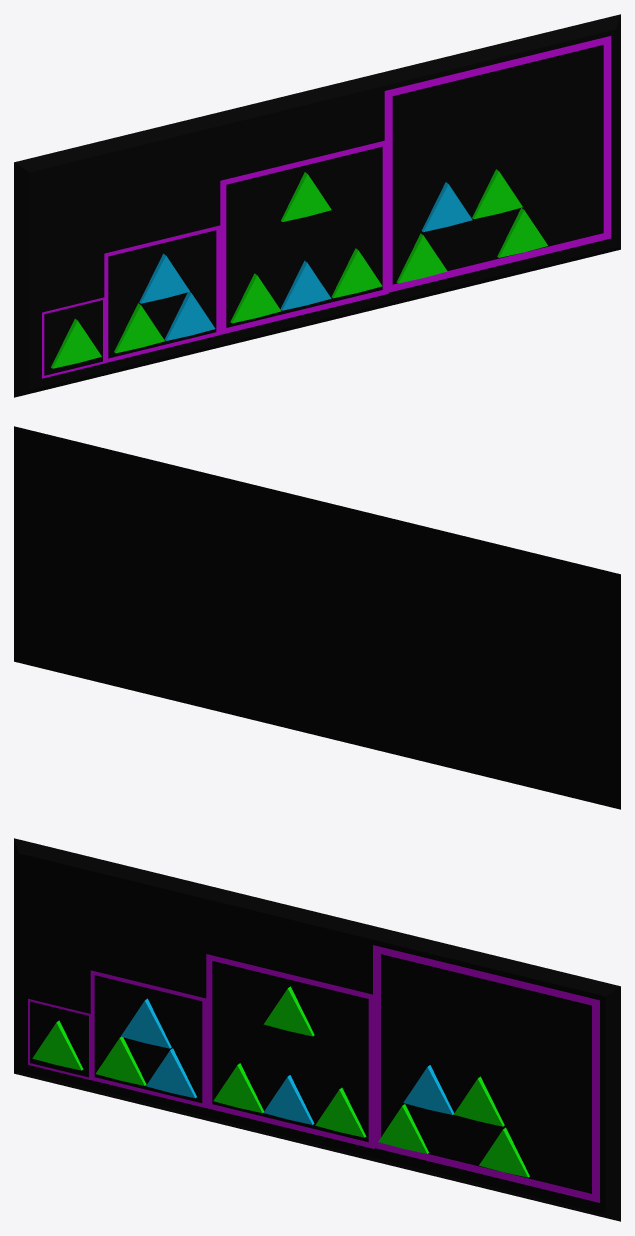
Rendered from New Pattern  Shape Puzzle Stage 2 1.1.fbx.
3 views of the same model, one above another, from view 1: azimuth 30°, elevation 25°; view 2: azimuth 150°, elevation 25°; view 3: azimuth 330°, elevation 25° (orthographic).
Visible parts, largest first — view 1: Cube.003, Plane.003, Plane.002, Plane.001, Cube.013, Cube.015, Plane; view 2: Cube.003; view 3: Cube.003, Plane.003, Plane.002, Plane.001, Cube.013, Cube.015, Plane.
Part boxes in pixels (x1,y1,x2,y2): Cube.003: (14, 14, 620, 397); Plane.003: (384, 36, 611, 292); Plane.002: (220, 140, 388, 334); Plane.001: (104, 225, 220, 362); Cube.013: (396, 233, 447, 283); Cube.015: (421, 182, 472, 231); Plane: (42, 297, 105, 378); Cube.003: (14, 426, 620, 809); Cube.003: (14, 838, 620, 1221); Plane.003: (373, 945, 599, 1202); Plane.002: (206, 954, 374, 1148); Plane.001: (90, 970, 206, 1108); Cube.013: (378, 1104, 428, 1153); Cube.015: (403, 1065, 454, 1114); Plane: (28, 998, 90, 1079).
Size of the model in its own units: 2413 by 894 by 73.88.
